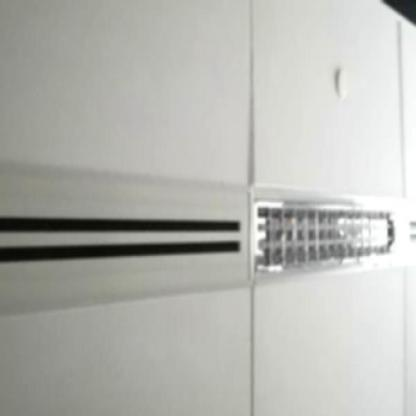light_off: (243, 169, 406, 287)
